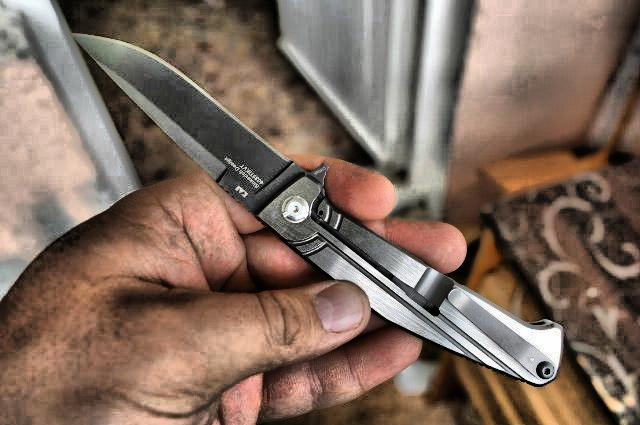knife: (49, 16, 364, 286)
